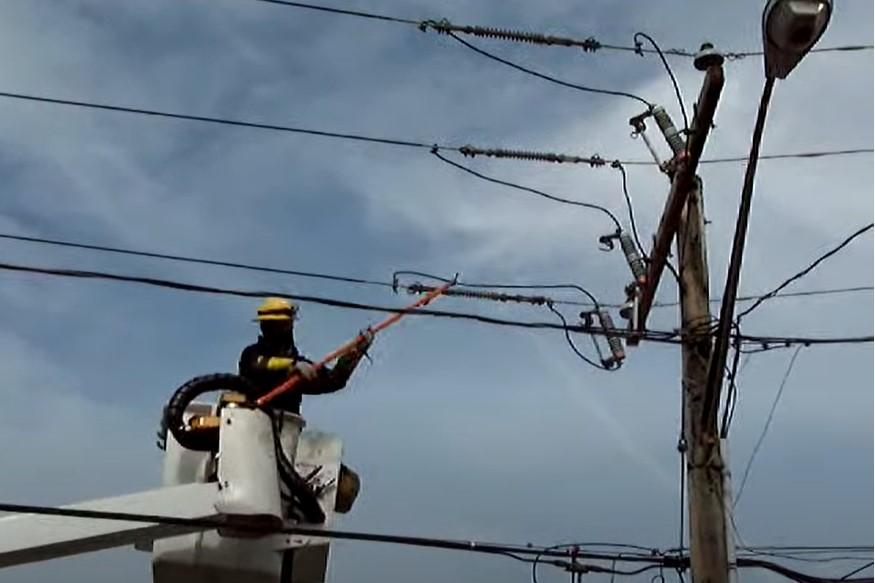Vara_Manobra: (248, 272, 462, 408)
